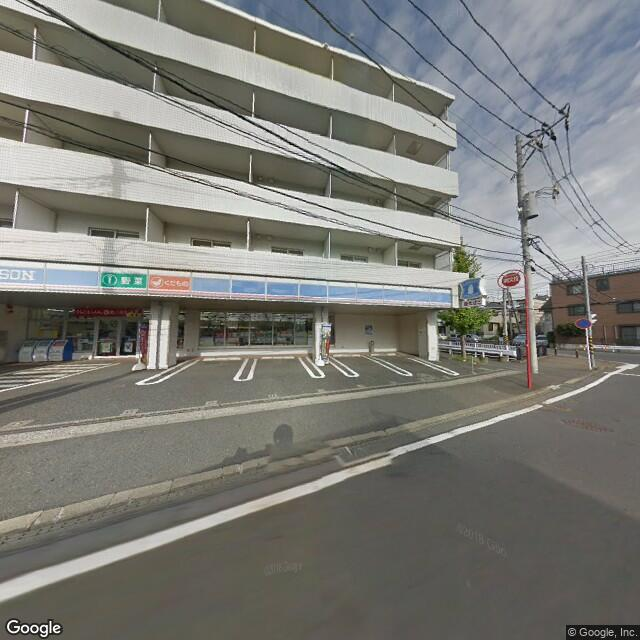lawson: (1, 258, 452, 311), (457, 275, 483, 303)
